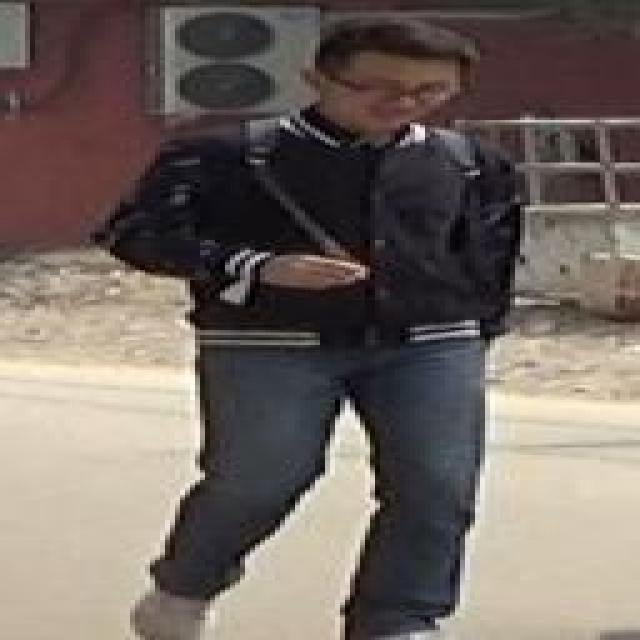adult: (91, 20, 558, 640)
